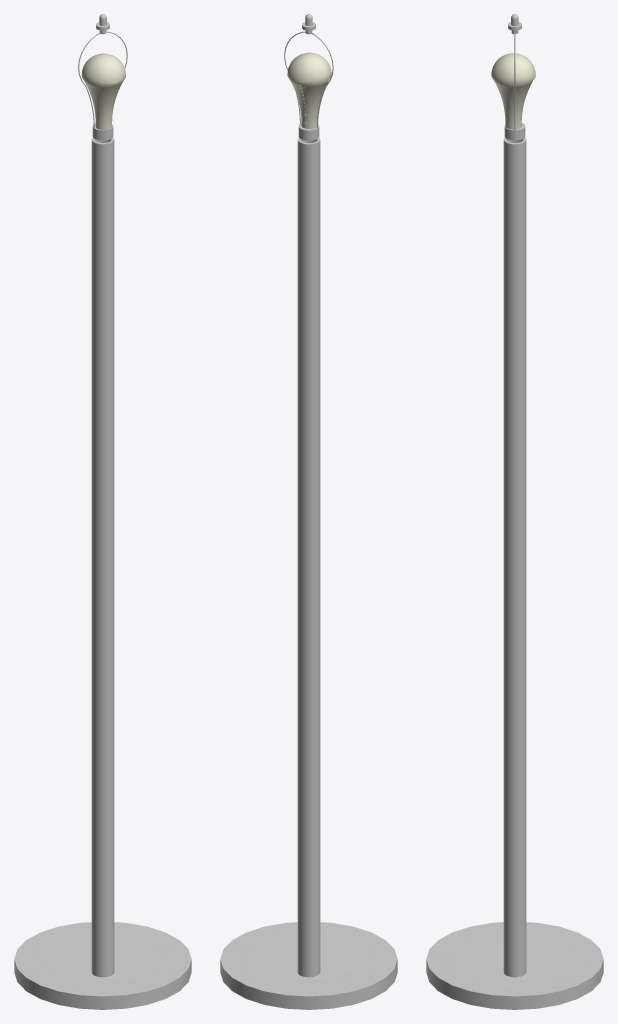
The picture shows the model from 3 angles, left to right: view 1: azimuth 30°, elevation 25°; view 2: azimuth 150°, elevation 25°; view 3: azimuth 270°, elevation 25°; orthographic projection.
Visible parts, largest first — view 1: instance_0, instance_0_212, instance_0_210, instance_0_006; view 2: instance_0, instance_0_212, instance_0_210, instance_0_006, instance_0_002; view 3: instance_0, instance_0_212, instance_0_210, instance_0_006, instance_0_002.
Boxes of the visible parts, bbox=[...] form: instance_0: bbox=[91, 138, 114, 977]; instance_0_212: bbox=[14, 922, 191, 996]; instance_0_210: bbox=[14, 938, 191, 1009]; instance_0_006: bbox=[81, 53, 125, 129]; instance_0: bbox=[297, 138, 320, 977]; instance_0_212: bbox=[220, 922, 397, 996]; instance_0_210: bbox=[220, 938, 397, 1009]; instance_0_006: bbox=[287, 52, 331, 128]; instance_0_002: bbox=[284, 30, 319, 140]; instance_0: bbox=[503, 138, 526, 977]; instance_0_212: bbox=[426, 922, 603, 996]; instance_0_210: bbox=[426, 938, 603, 1009]; instance_0_006: bbox=[491, 53, 535, 129]; instance_0_002: bbox=[504, 30, 525, 140].
Bounding box in the file's own units: 0.3014 × 0.3014 × 1.8.
